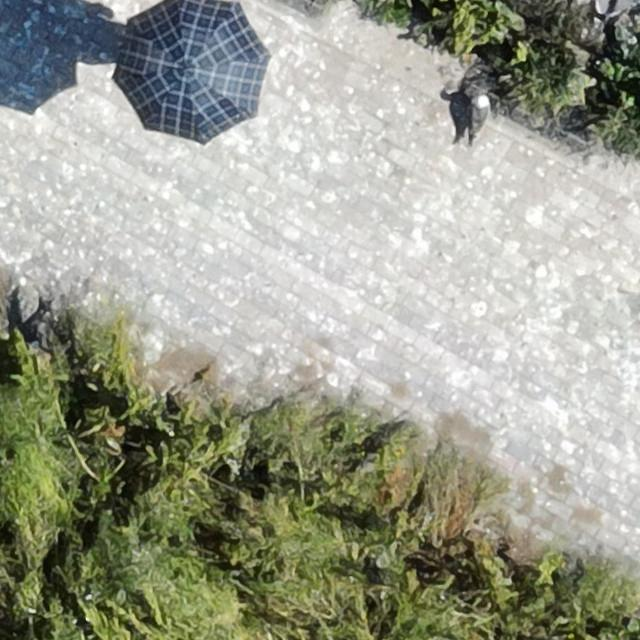umineko: (468, 91, 489, 137)
